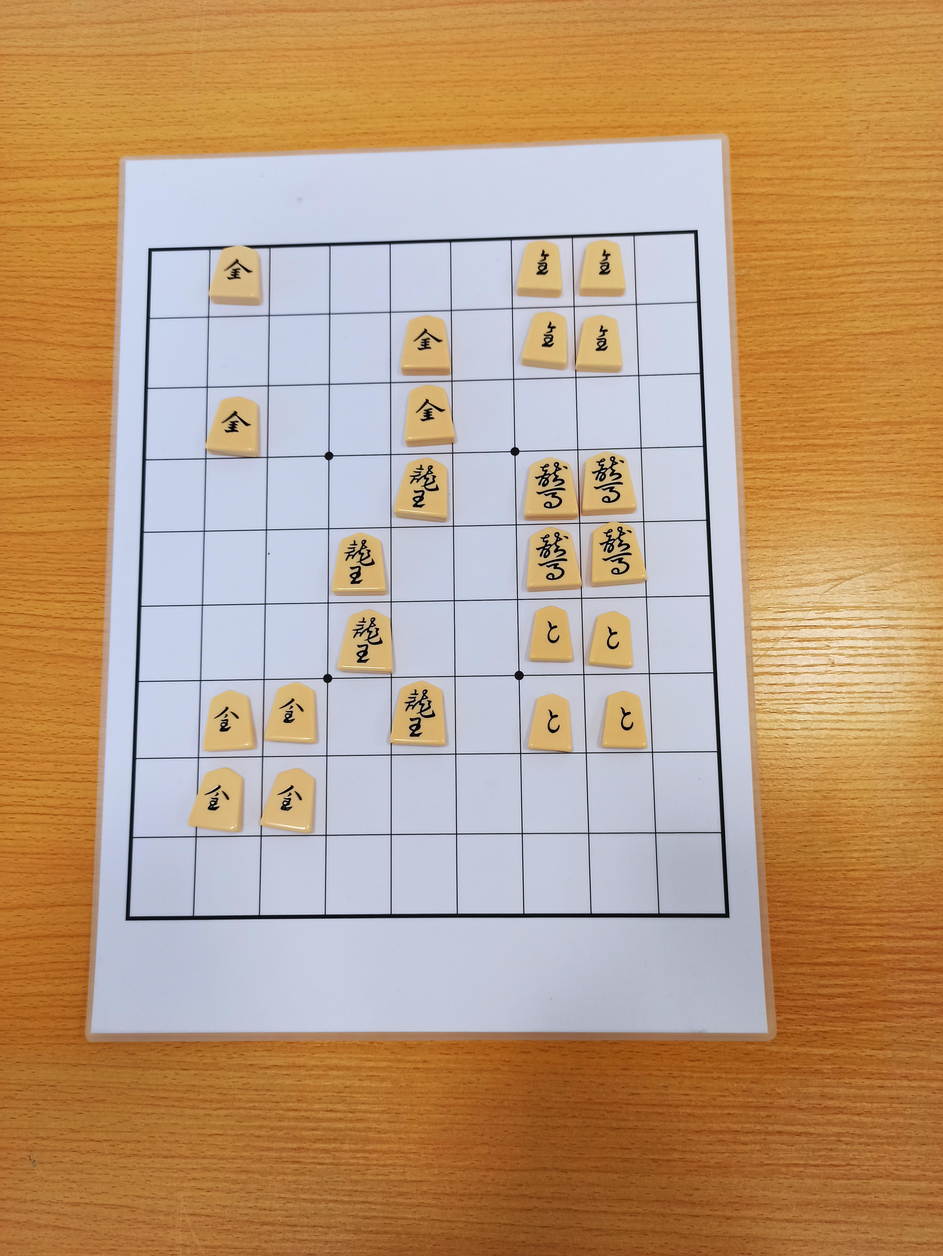board: (128, 230, 729, 917)
